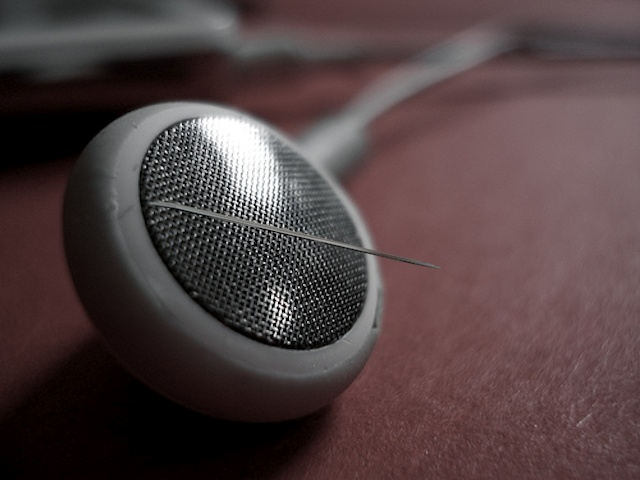ruler: (145, 193, 448, 272)
